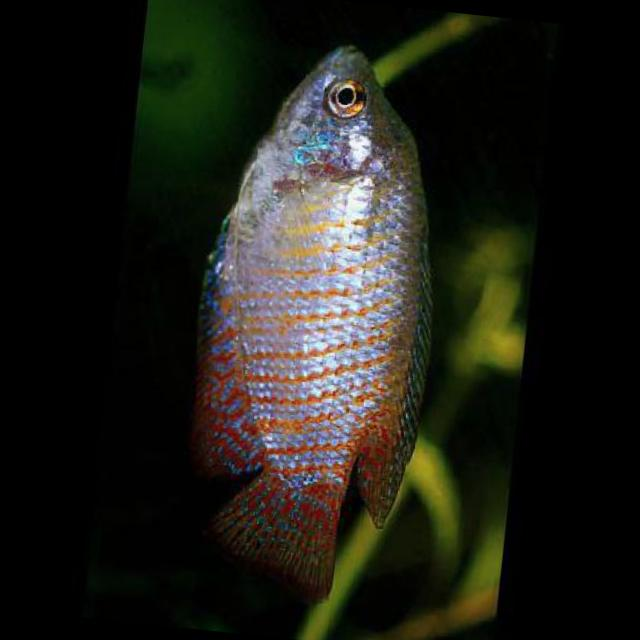Gourami: (167, 32, 460, 612)
